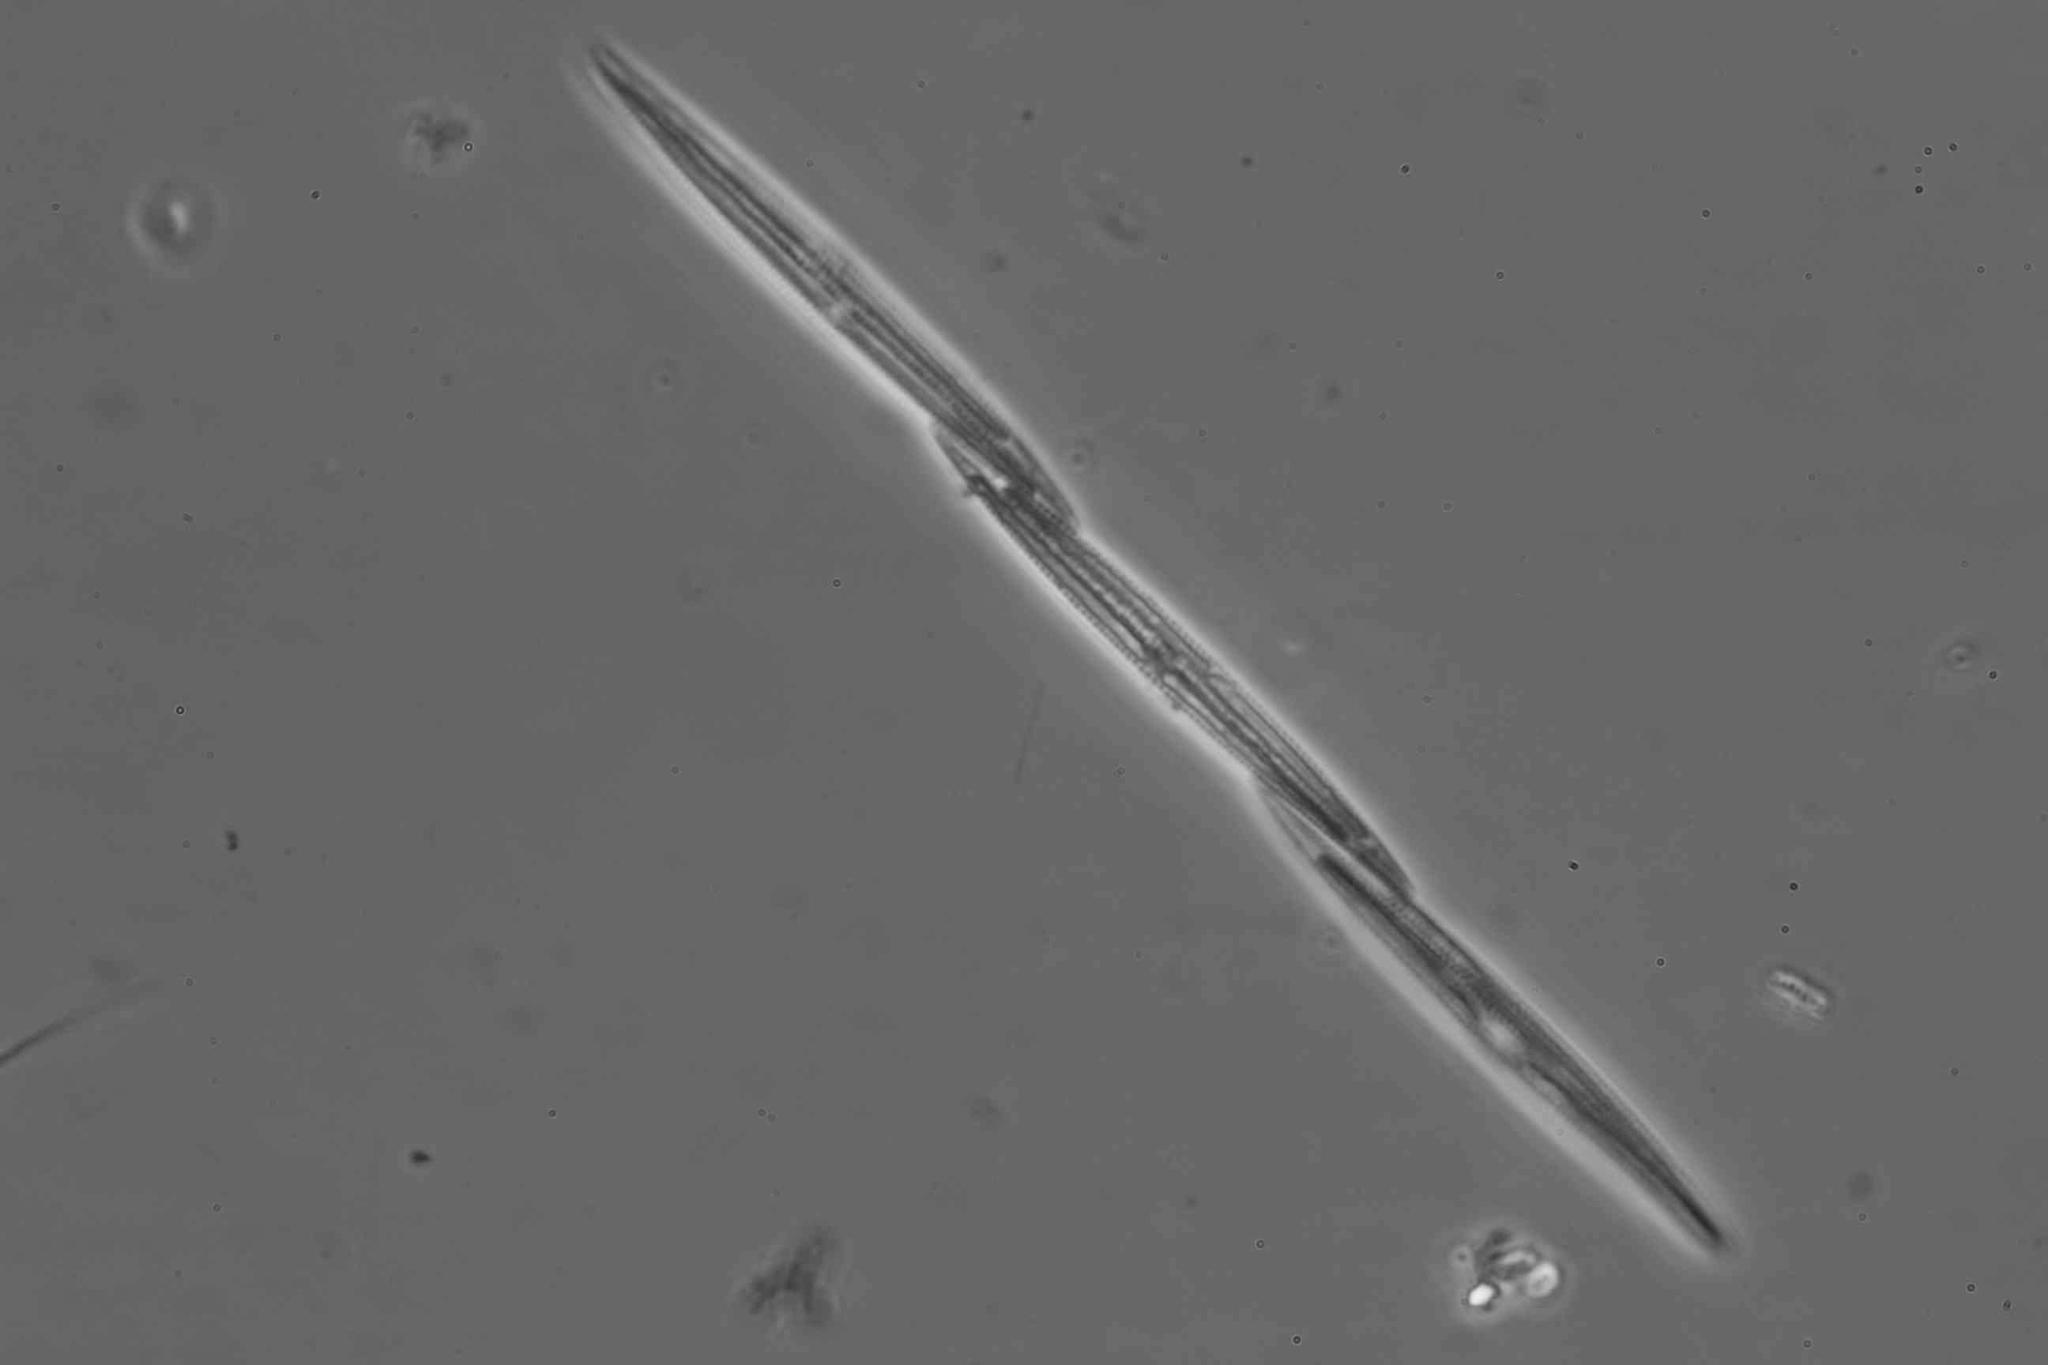pseudo_nitzschia: (589, 50, 1727, 1254)
